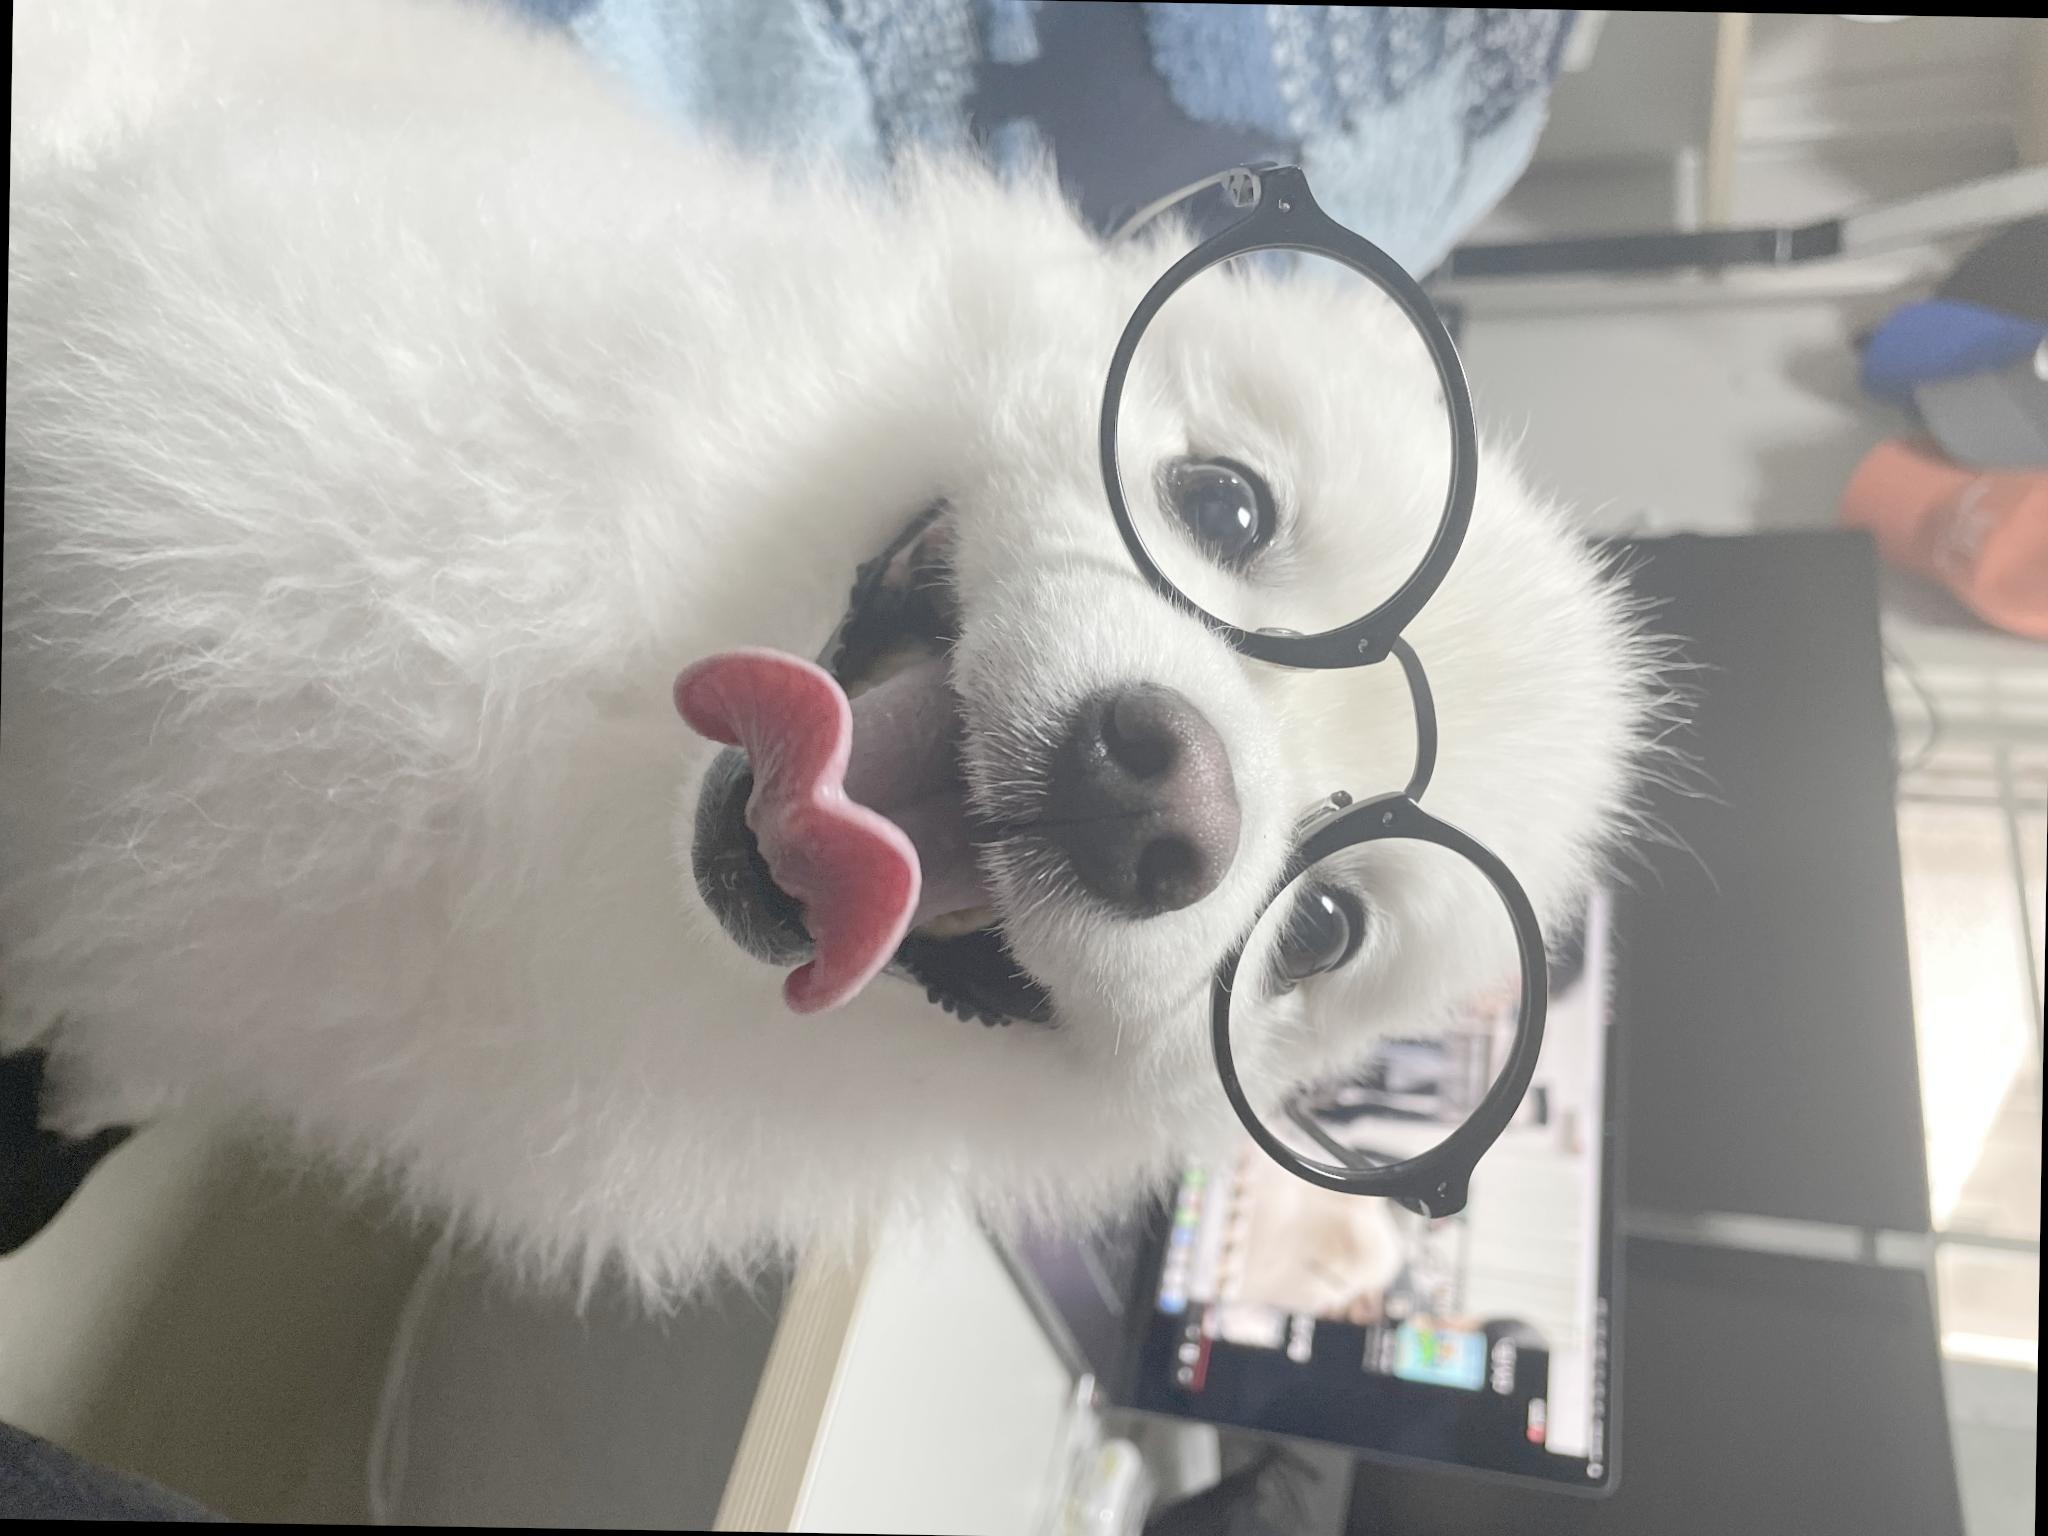dog: (502, 323, 1848, 1536)
